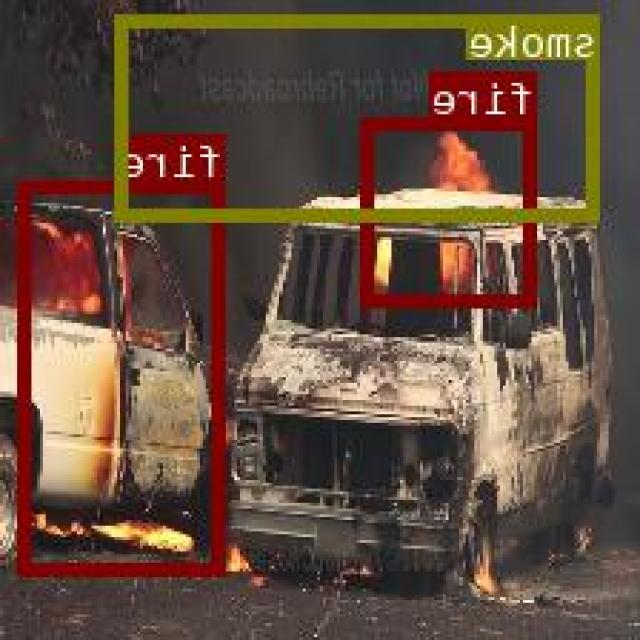fire: (20, 178, 227, 572), (366, 117, 540, 304)
smoke: (118, 12, 602, 219)
